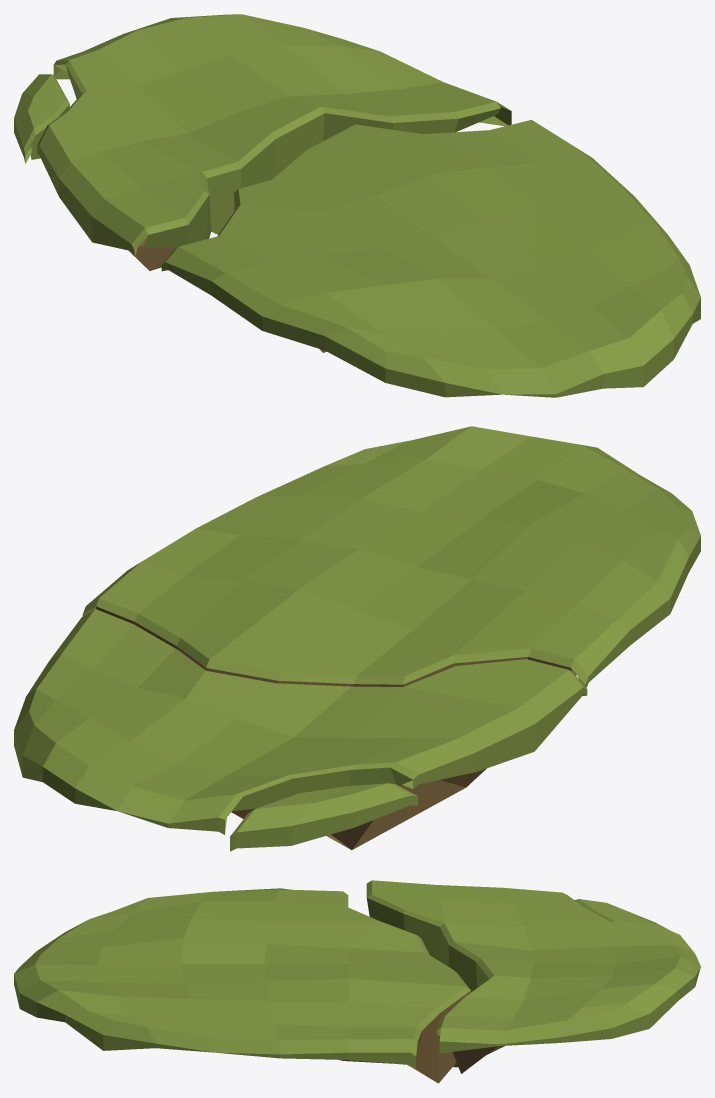
The model's file is plateforme_petit_2_v3.fbx.
The picture shows the model from 3 angles, top to bottom: view 1: azimuth 30°, elevation 25°; view 2: azimuth 150°, elevation 25°; view 3: azimuth 270°, elevation 25°; orthographic projection. The views are drawn at different scales.
Visible parts, largest first — view 1: Plane.009; view 2: Plane.009; view 3: Plane.009.
Boxes of the visible parts, box(x1,y1,x2,y2) form: Plane.009: box(14, 14, 700, 397); Plane.009: box(14, 426, 700, 851); Plane.009: box(14, 880, 700, 1083).
Size of the model in its own units: 257 by 86.31 by 467.
